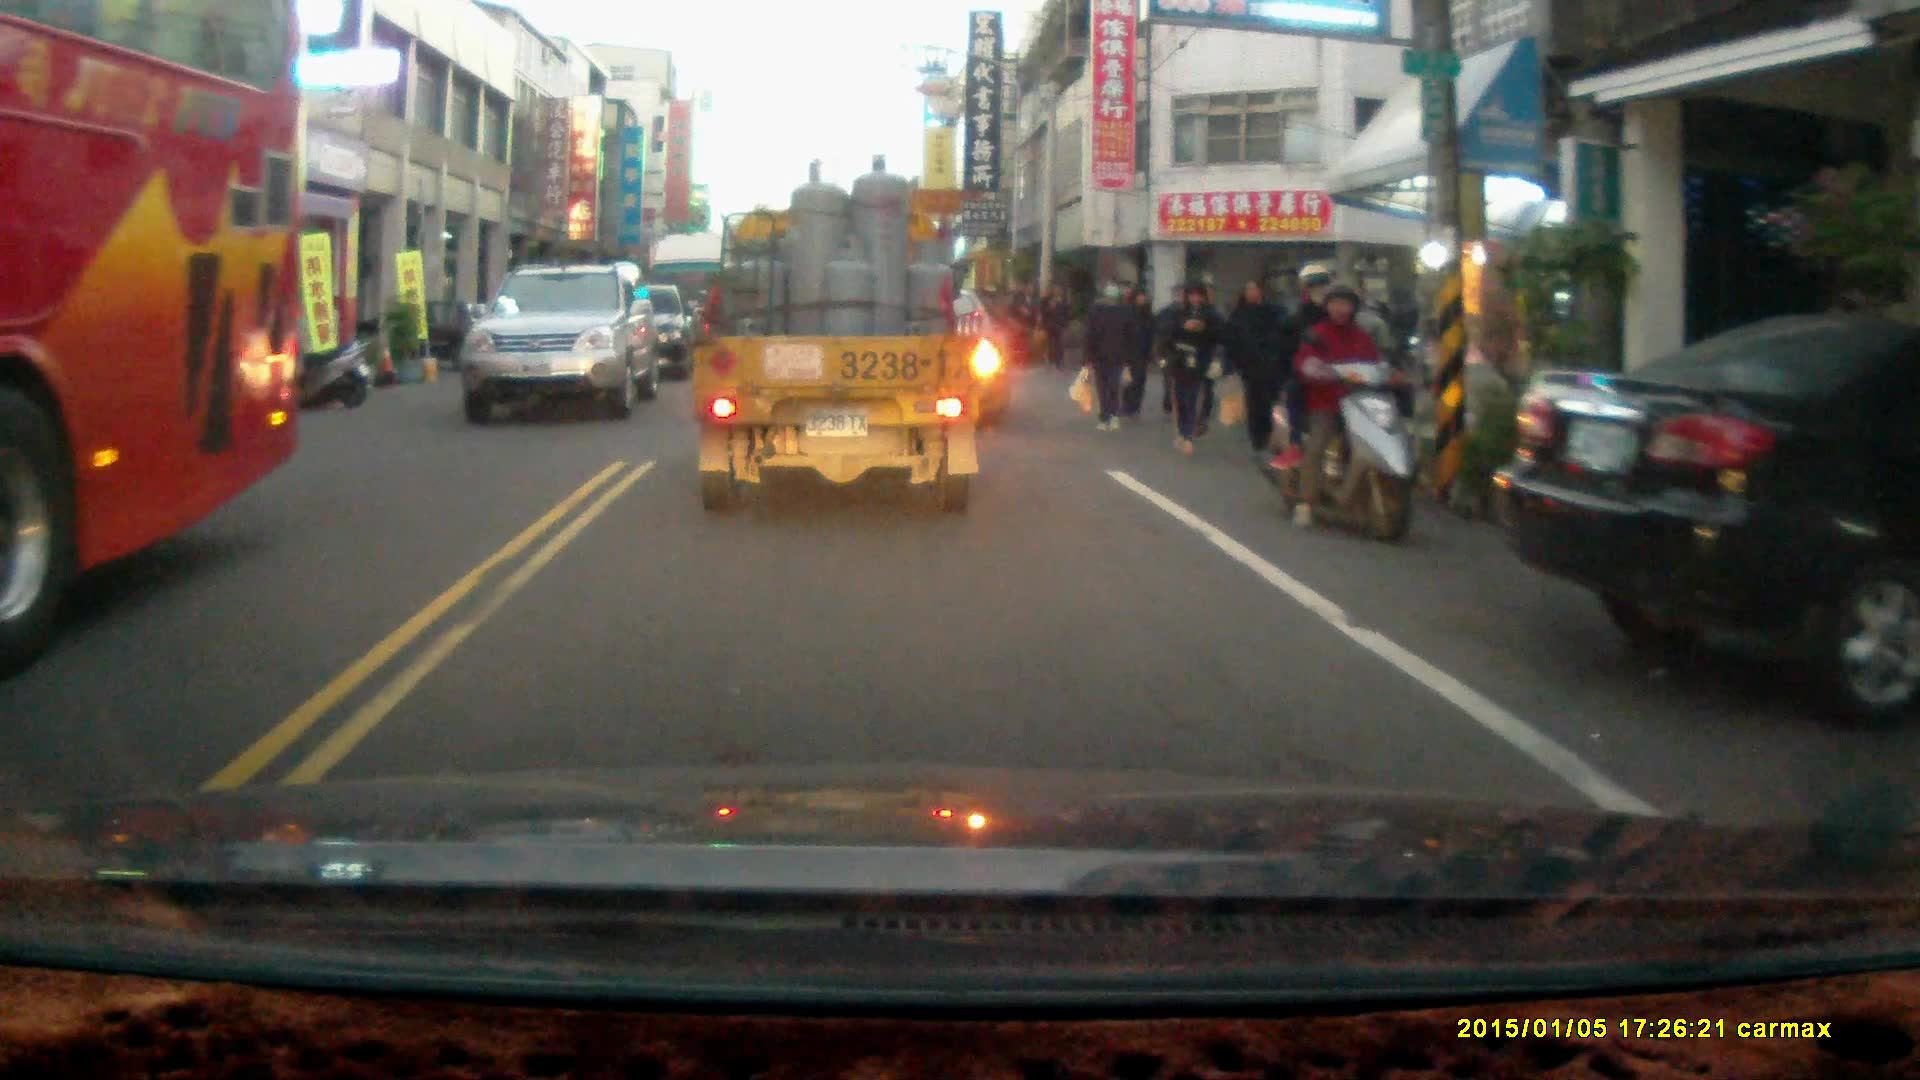pedestrian: (1218, 276, 1289, 458), (1166, 277, 1218, 456), (1082, 276, 1133, 430), (1114, 286, 1158, 423), (1036, 275, 1070, 371), (1011, 277, 1045, 371)
rider: (1253, 258, 1418, 539)
vehicle: (1, 7, 301, 672), (1506, 313, 1920, 731), (691, 154, 987, 520), (793, 282, 1021, 433), (462, 261, 662, 422)
